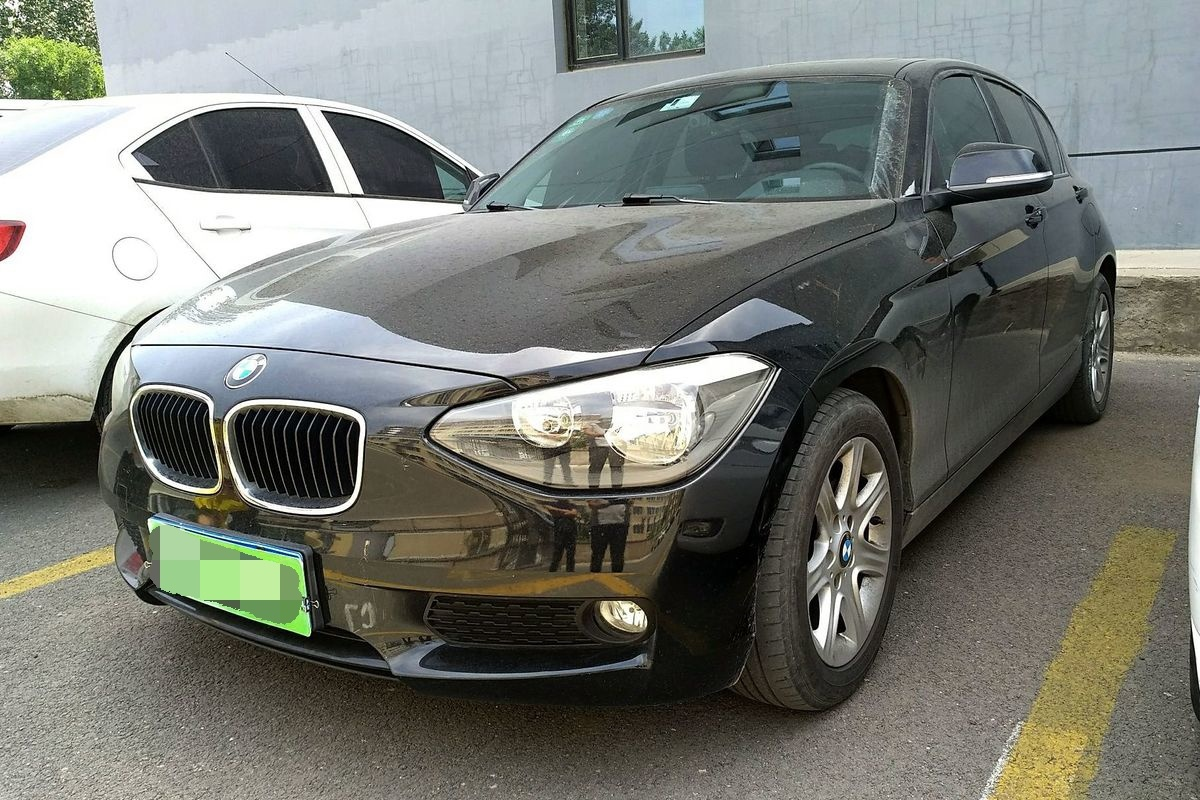family sedan: (137, 48, 1113, 682)
